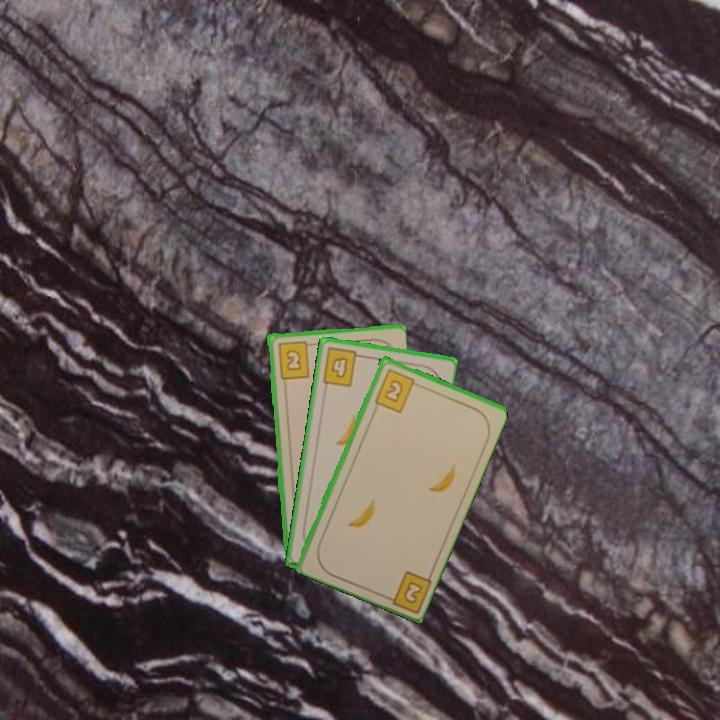2b: (379, 567, 434, 614), (371, 365, 422, 415), (274, 338, 316, 381)
4b: (318, 344, 366, 390)
